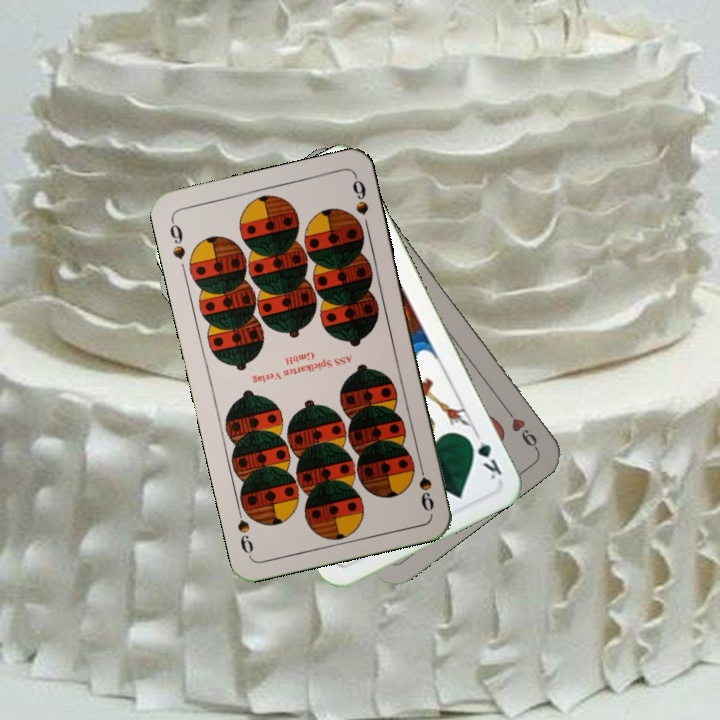GK: (463, 427, 505, 482)
H9: (499, 402, 540, 452)
S9: (414, 456, 437, 515), (165, 215, 188, 262)
